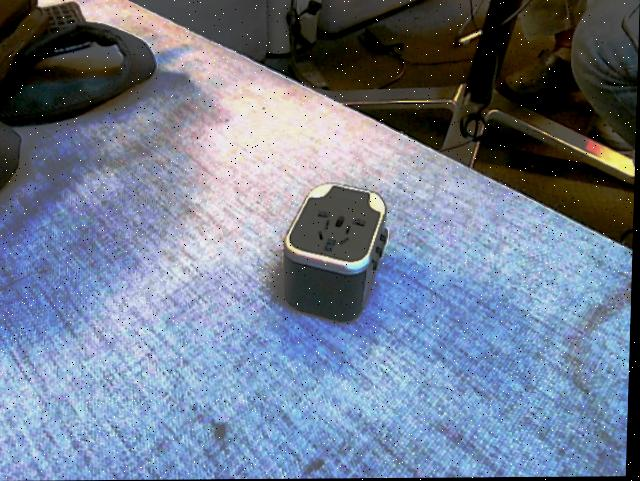adapter: (282, 182, 390, 322)
